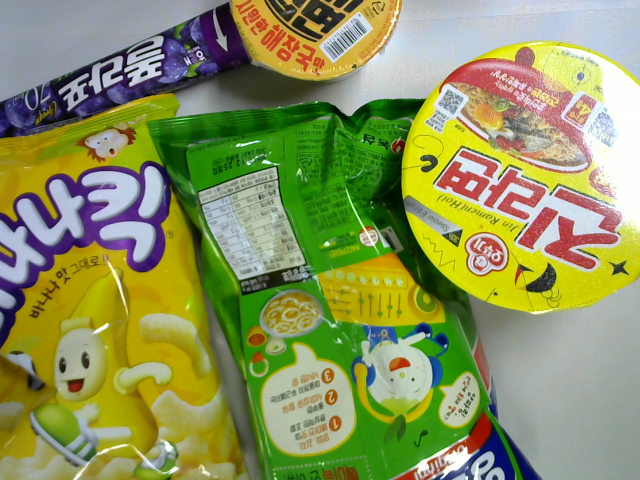Banana_Kick: (1, 94, 253, 480)
Hejangmini: (226, 1, 406, 85)
Jinlamyeon_Hot_Taste_Large_Cup: (401, 39, 640, 319)
Oninon_Ring: (146, 94, 546, 480)
Polapo_Grape: (1, 1, 253, 136)
